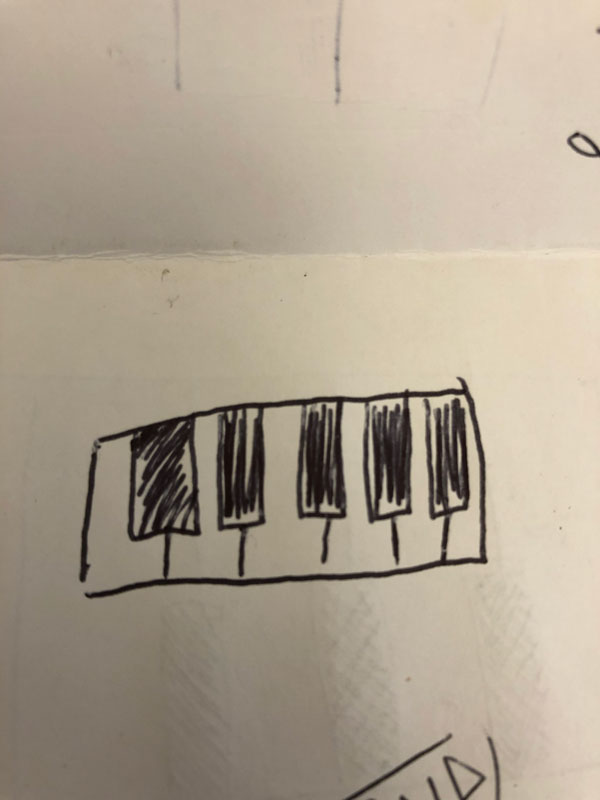piano: (67, 377, 491, 602)
